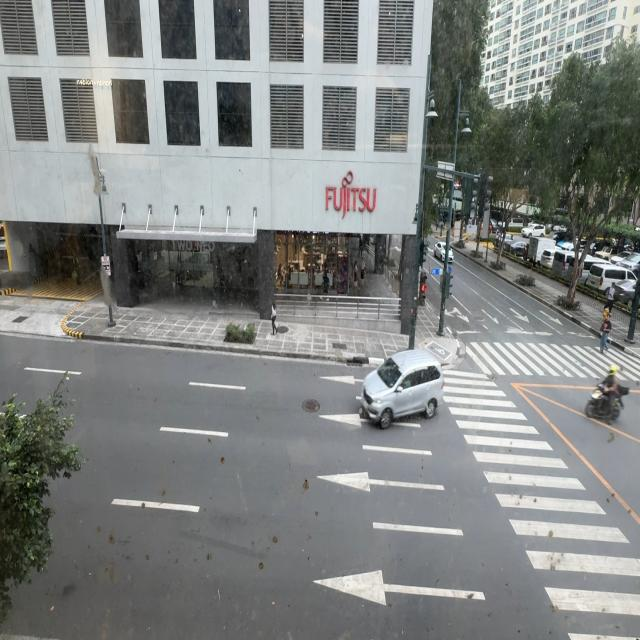crossing: (598, 310, 614, 362)
pedestrain: (271, 302, 277, 336)
